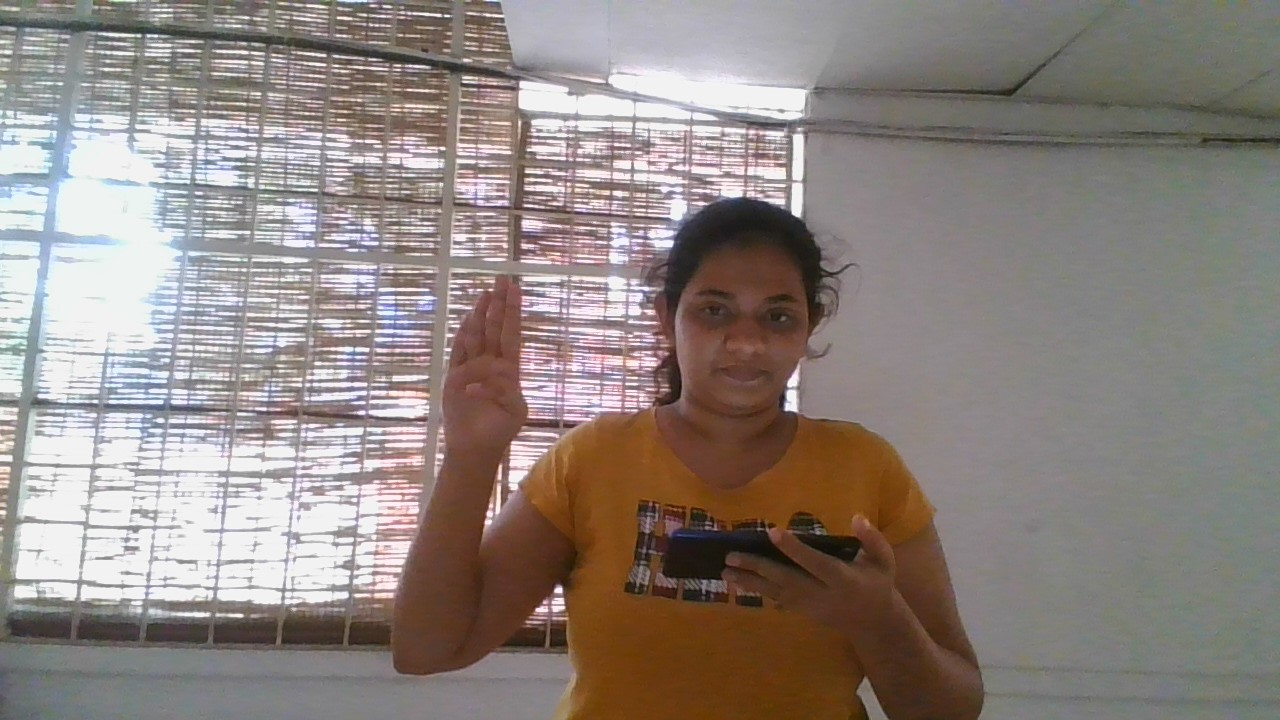b: (423, 272, 545, 470)
